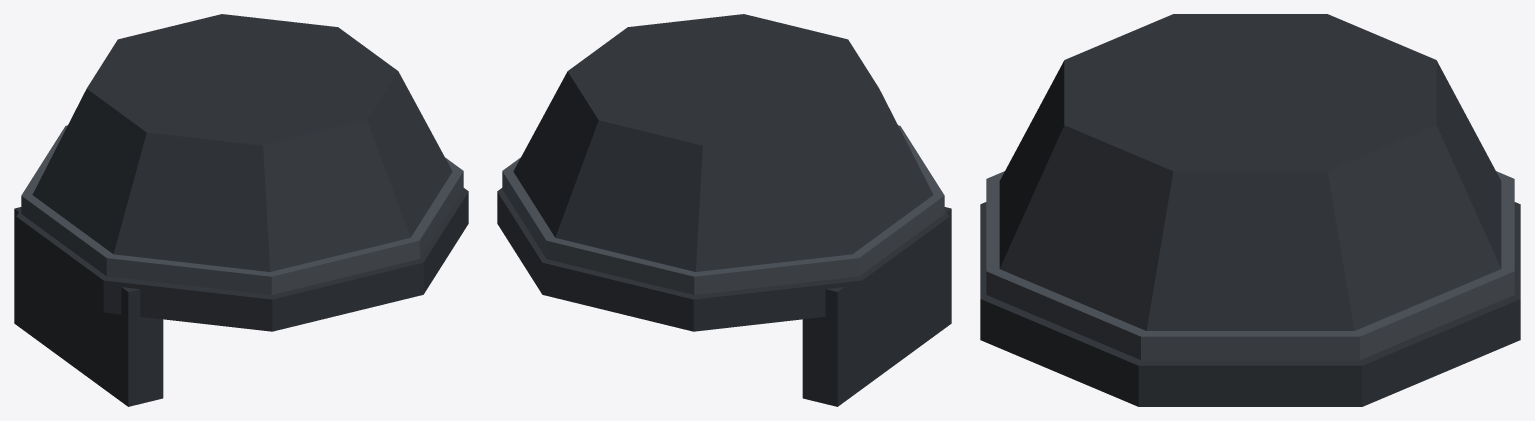
File: inf_warden_plate_shoulder_l.fbx
3 renders of one model, left to right at view 1: azimuth 30°, elevation 25°; view 2: azimuth 150°, elevation 25°; view 3: azimuth 270°, elevation 25°, orthographic. The views are drawn at different scales.
Parts seen in each view (by area): view 1: inf_warden_plate_shoulder_l; view 2: inf_warden_plate_shoulder_l; view 3: inf_warden_plate_shoulder_l.
Part boxes in pixels (x1,y1,x2,y2): inf_warden_plate_shoulder_l: (14,14,468,406); inf_warden_plate_shoulder_l: (497,14,951,406); inf_warden_plate_shoulder_l: (980,14,1520,406).
Size of the model in its own units: 166 by 106 by 166.
